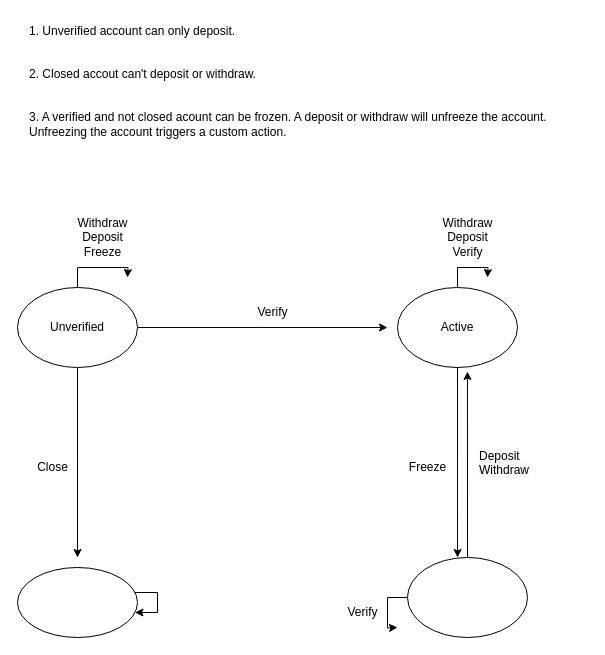
Some shapes in this 605 by 655 pixel diagram are drawn without their labels. Each missing label, with the centre of its shape:
Closed: the point at 77,602
Frozen: the point at 467,597
